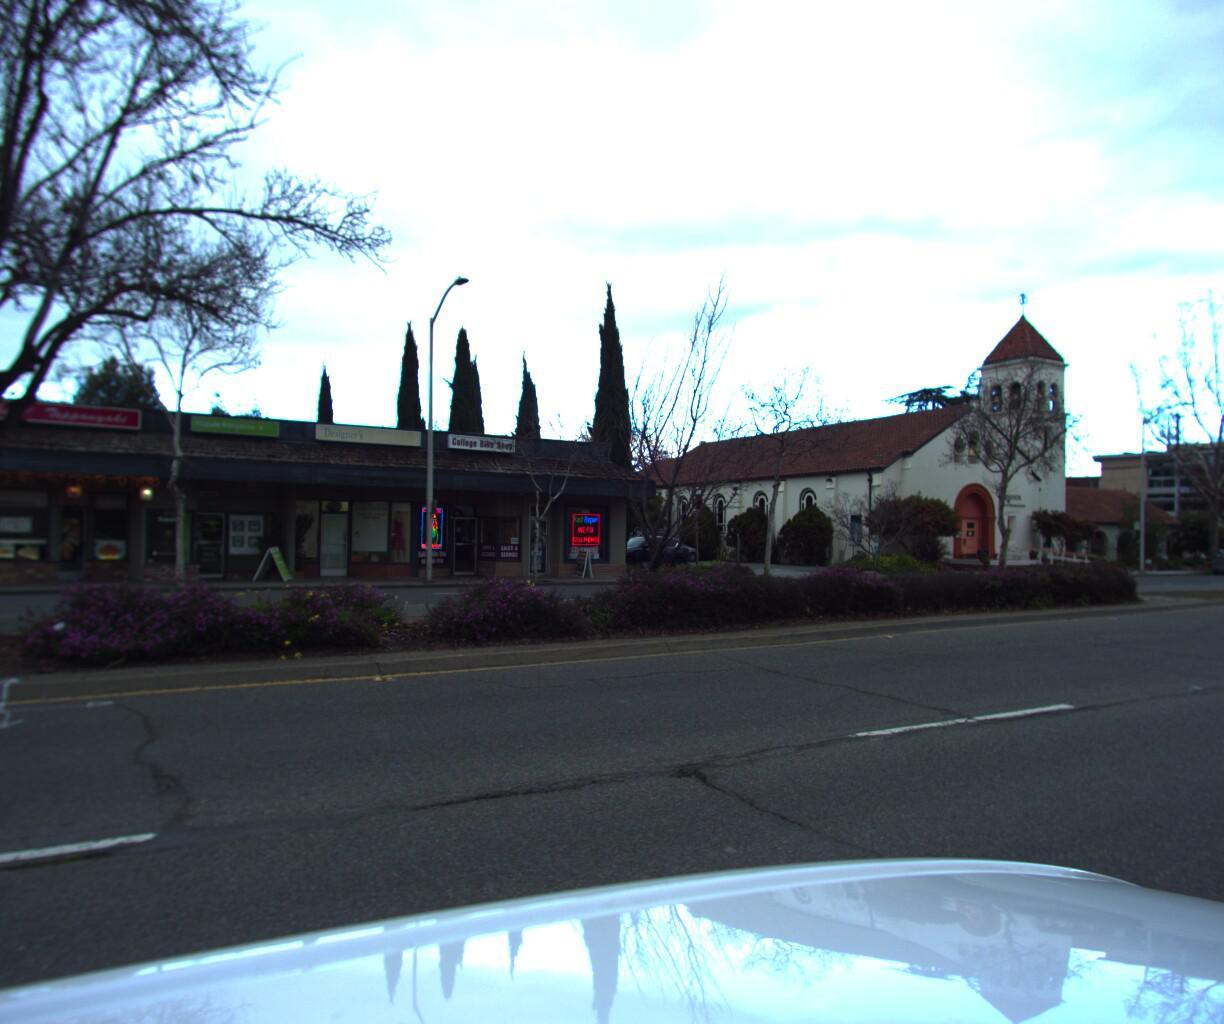car: (592, 527, 695, 565), (1197, 545, 1224, 575), (1216, 548, 1224, 587)
